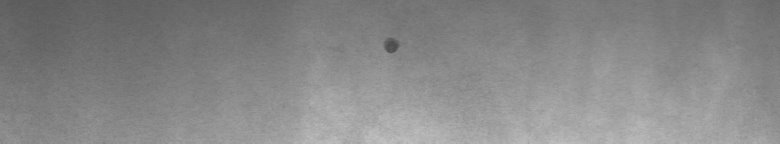fi: (380, 32, 404, 60)
